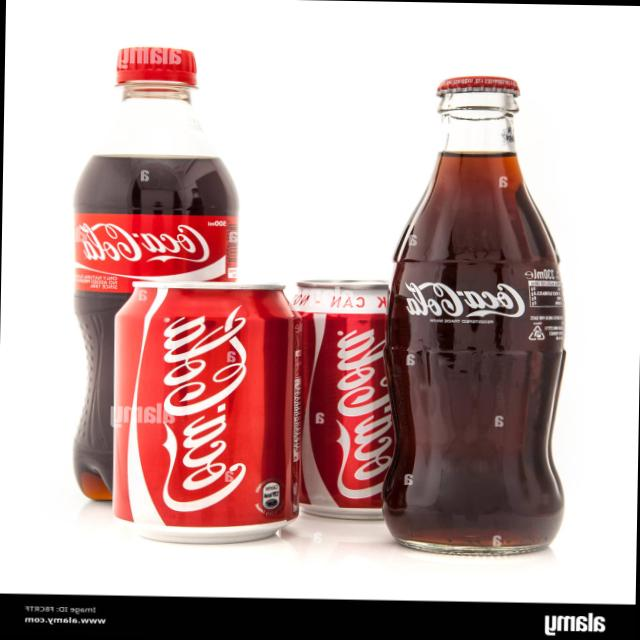cocacola: (106, 284, 310, 546)
